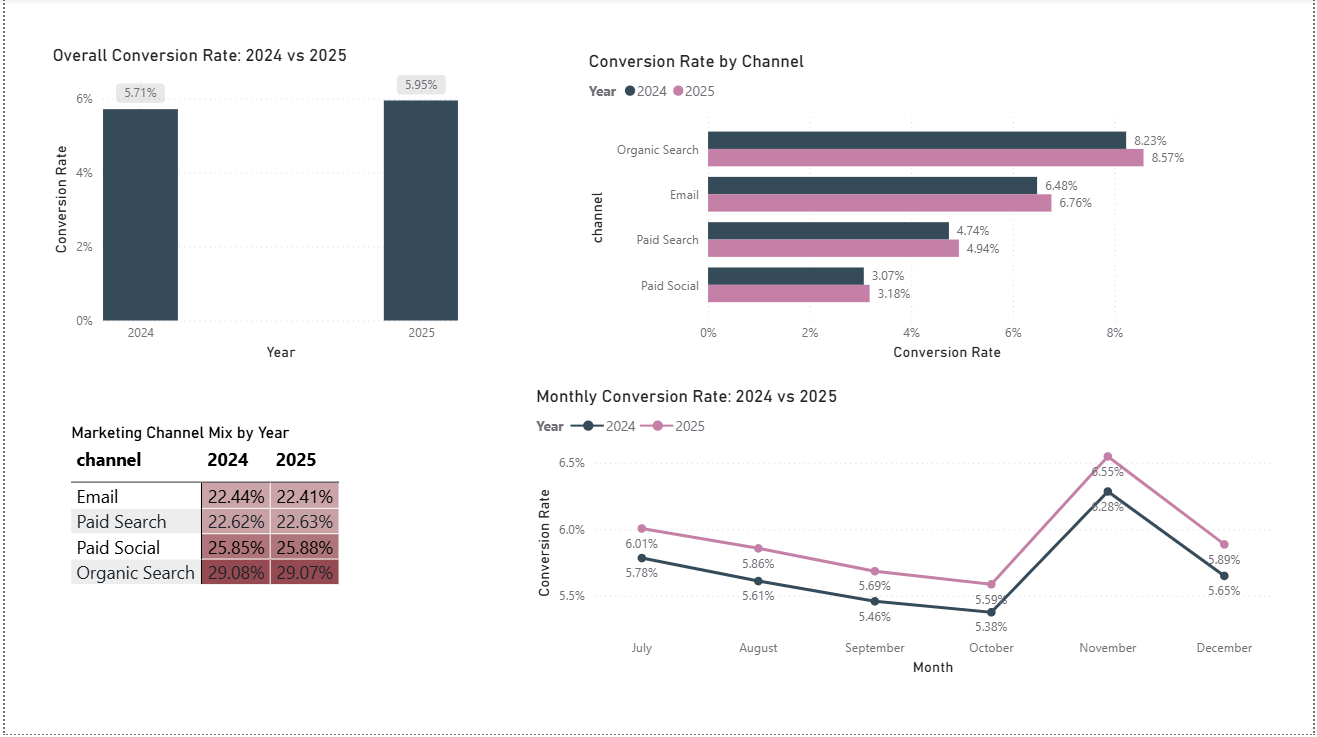

What the dashboard file says about the page in this screenshot:
{"tool":"powerbi","page":{"name":"Page 1","canvas":[1280,720],"ordinal":0},"visuals":[{"type":"clusteredColumnChart","title":"Overall Conversion Rate: 2024 vs 2025","fields":{"Category":["marketing_events.Year"],"Y":["marketing_events.Conversion Rate"]},"box":[36.7,45.2,426.8,314.3],"z":0},{"type":"clusteredBarChart","title":"Conversion Rate by Channel","fields":{"Category":["marketing_events.channel"],"Y":["marketing_events.Conversion Rate"],"Series":["marketing_events.Year"]},"box":[566.2,51.4,604.1,308.2],"z":1000},{"type":"pivotTable","title":"Marketing Channel Mix by Year","fields":{"Rows":["marketing_events.channel"],"Columns":["marketing_events.Year"],"Values":["marketing_events.Session Share"]},"box":[59.9,415.8,381.5,215.2],"z":2000},{"type":"lineChart","title":"Monthly Conversion Rate: 2024 vs 2025","fields":{"Category":["marketing_events.Month"],"Y":["marketing_events.Conversion Rate"],"Series":["marketing_events.Year"]},"box":[514.8,379.1,728.8,288.6],"z":3000}]}

Visuals, with their boxes in screenshot pixels (x1, y1, x2, y2), scaled from the page's 1280x720 canvas onto the 1317x737 screenshot:
"Overall Conversion Rate: 2024 vs 2025" clusteredColumnChart: BBox(38, 46, 477, 368)
"Conversion Rate by Channel" clusteredBarChart: BBox(583, 53, 1204, 368)
"Marketing Channel Mix by Year" pivotTable: BBox(62, 426, 454, 646)
"Monthly Conversion Rate: 2024 vs 2025" lineChart: BBox(530, 388, 1280, 683)
